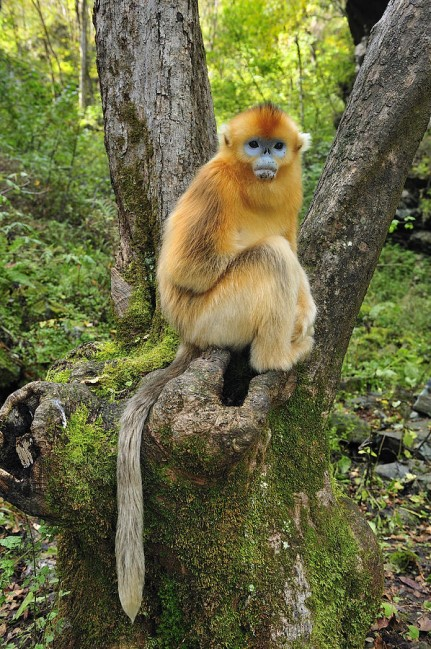GoldenSnub-Nosed: (155, 95, 319, 388)
